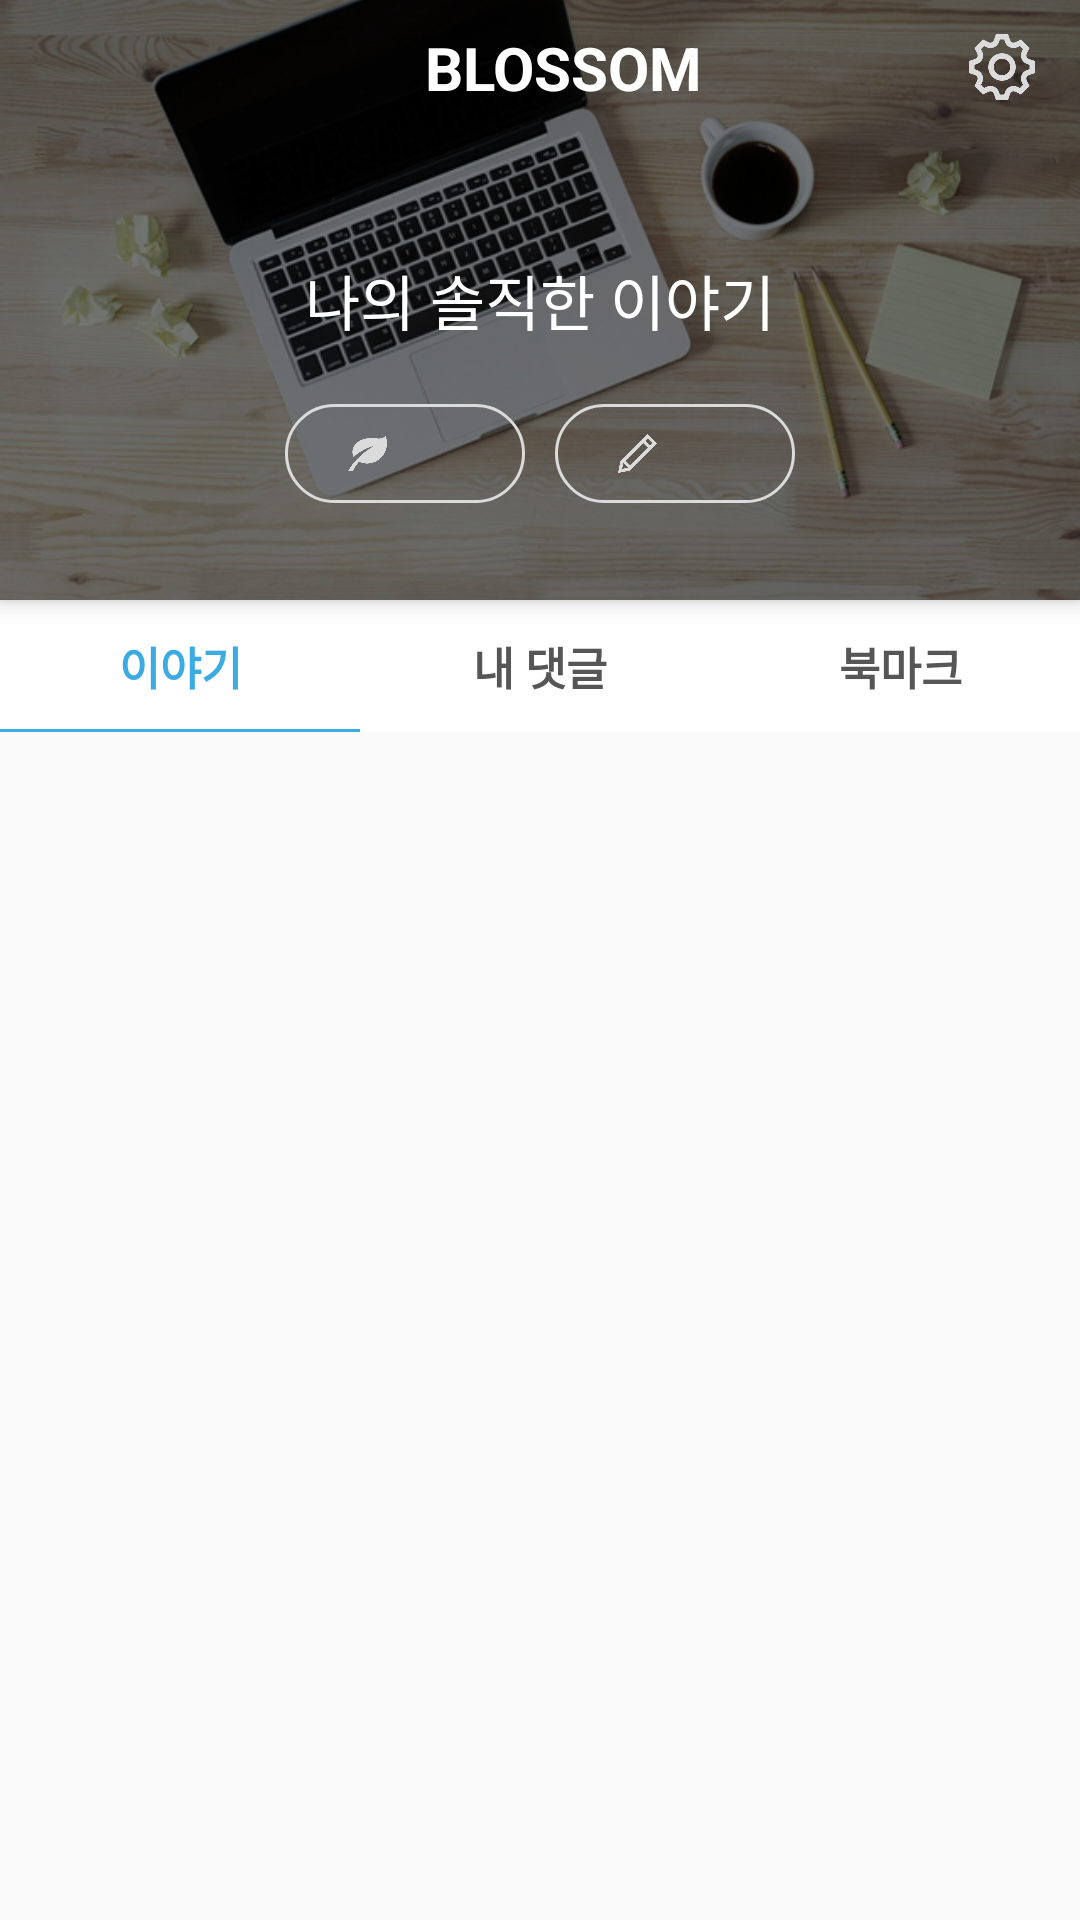

Icons on this 1080 x 1920 Android screen, each with the point to tap as (x,y):
seed: (367,453)
setting: (1002,67)
story: (637,453)
